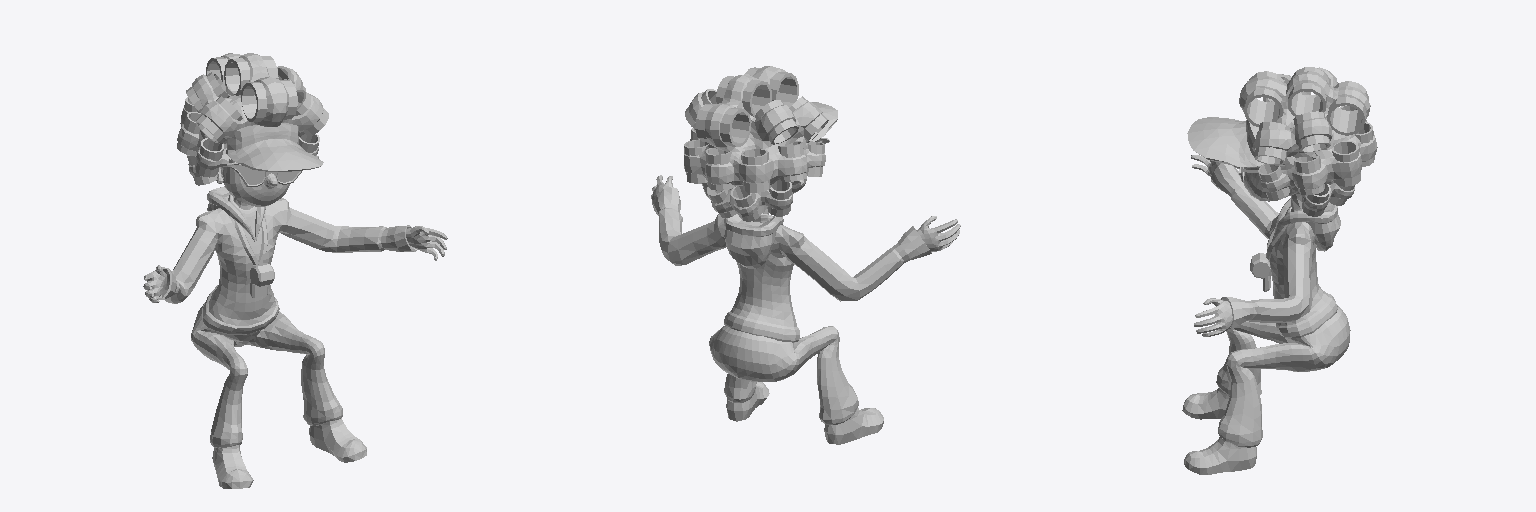
File: humano_mom_4.obj
The picture shows the model from 3 angles: view 1: azimuth 30°, elevation 25°; view 2: azimuth 150°, elevation 25°; view 3: azimuth 270°, elevation 25°; orthographic projection.
Visible parts, largest first — view 1: Fitness_Grandma_BodyGeo; view 2: Fitness_Grandma_BodyGeo; view 3: Fitness_Grandma_BodyGeo.
Part boxes in pixels (x1,y1,x2,y2): Fitness_Grandma_BodyGeo: (143, 53, 447, 488); Fitness_Grandma_BodyGeo: (651, 66, 960, 444); Fitness_Grandma_BodyGeo: (1182, 67, 1377, 474).
Bounding box in the file's own units: 0.966 × 1.16 × 0.5429.